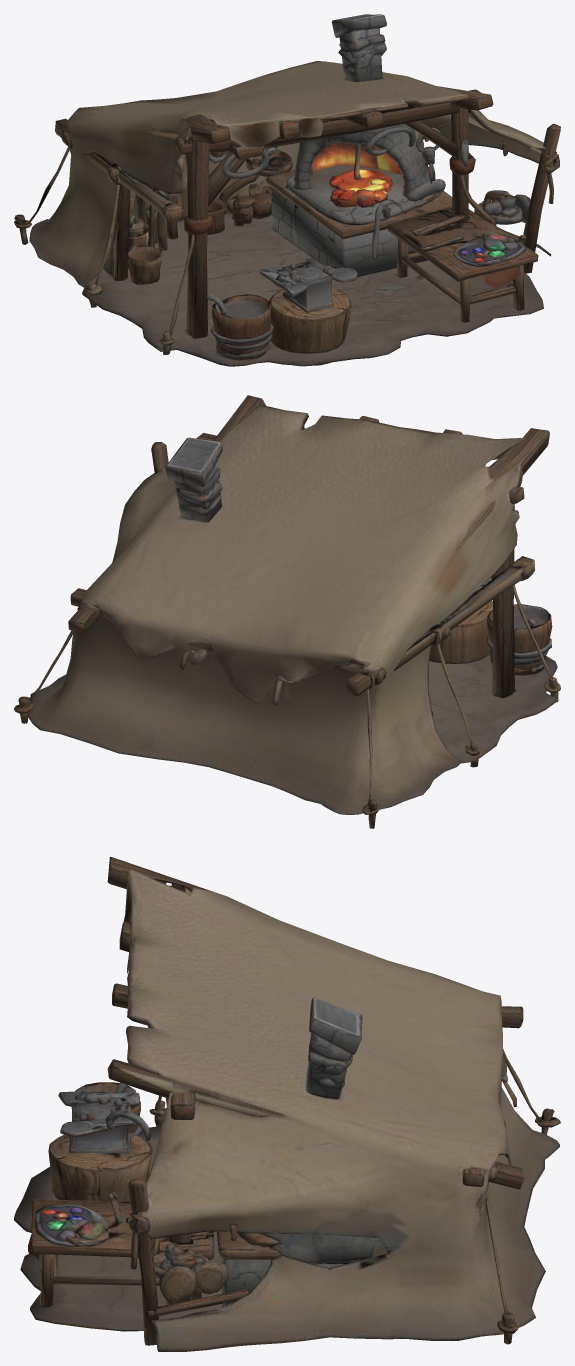
The model's file is praca_forja.glb.
3 views of the same model, one above another, from view 1: azimuth 30°, elevation 25°; view 2: azimuth 150°, elevation 25°; view 3: azimuth 270°, elevation 25° (orthographic). The views are drawn at different scales.
Parts seen in each view (by area): view 1: mesh_node; view 2: mesh_node; view 3: mesh_node.
Part boxes in pixels (x1,y1,x2,y2): mesh_node: [14, 14, 560, 366]; mesh_node: [14, 395, 560, 828]; mesh_node: [14, 857, 560, 1351].
Bounding box in the file's own units: 1 × 0.5918 × 0.9922.
Materials: 1 (1 with a texture image).
